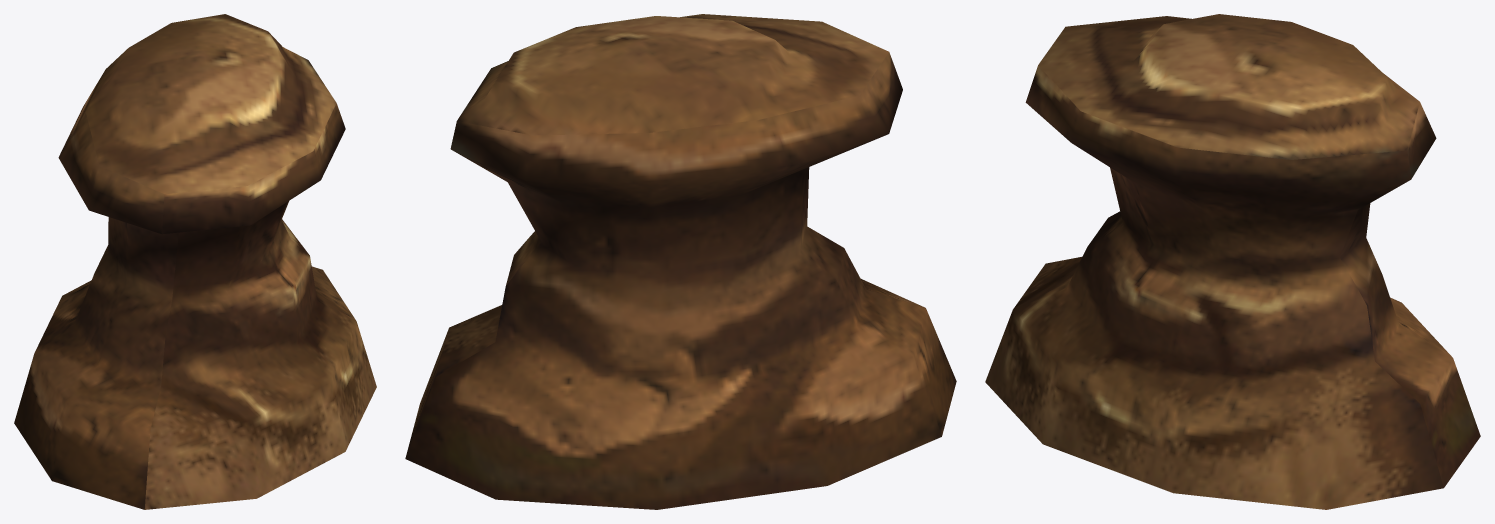
File: ShiTou14.FBX
The picture shows the model from 3 angles, left to right: view 1: azimuth 30°, elevation 25°; view 2: azimuth 150°, elevation 25°; view 3: azimuth 270°, elevation 25°; orthographic projection. The views are drawn at different scales.
Visible parts, largest first — view 1: ShiTou14; view 2: ShiTou14; view 3: ShiTou14.
Part boxes in pixels (x1,y1,x2,y2): ShiTou14: (14, 14, 376, 509); ShiTou14: (405, 14, 956, 509); ShiTou14: (985, 14, 1480, 509).
Bounding box in the file's own units: 199 × 172 × 207.
